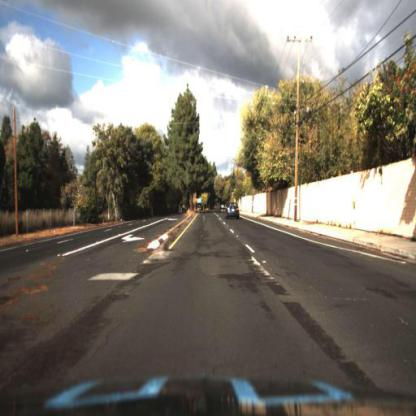car: (225, 201, 243, 221)
